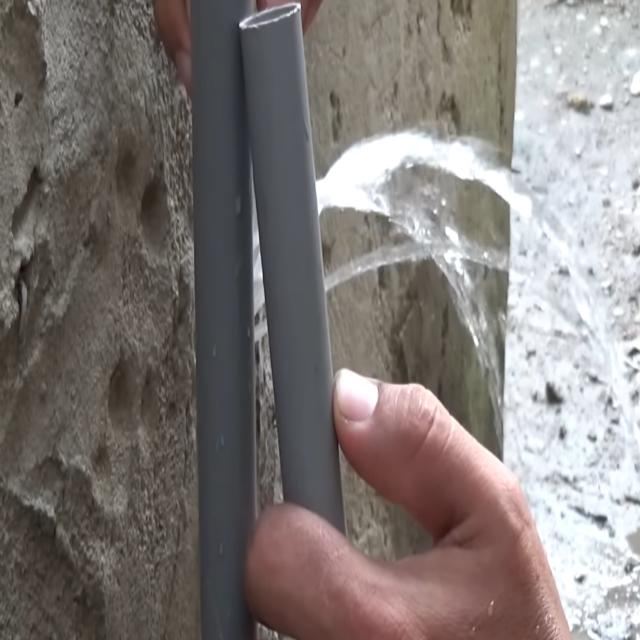leak: (316, 131, 530, 441)
